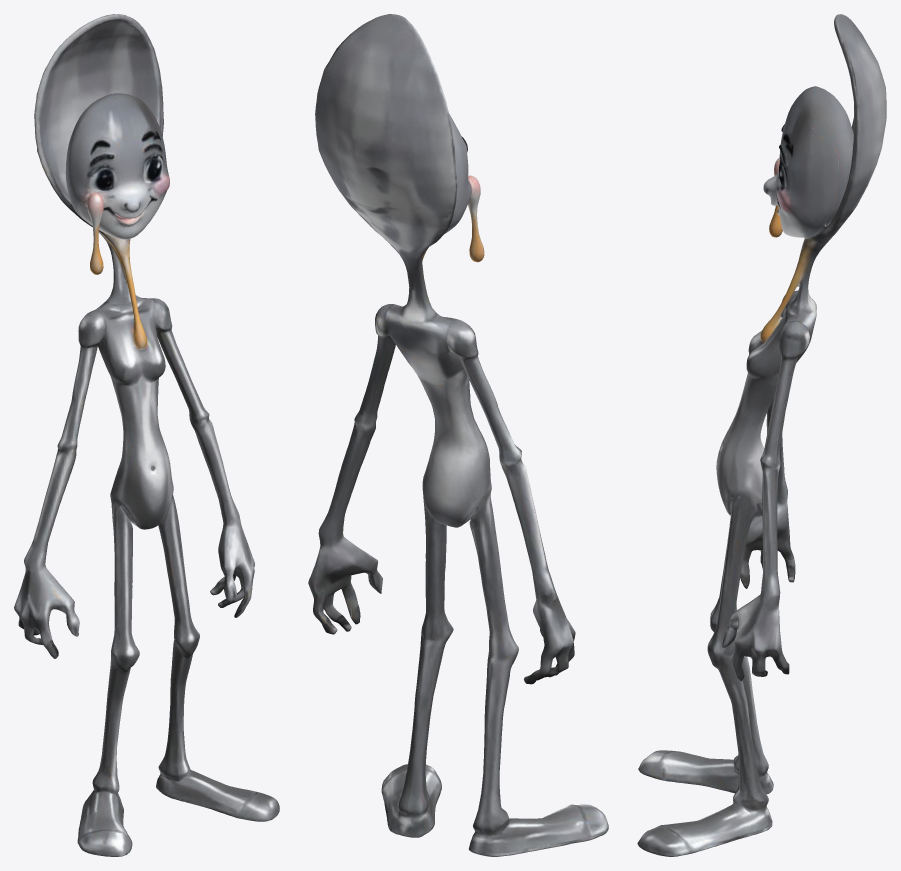
The model's file is token_soup_spoon.glb.
The picture shows the model from 3 angles, left to right: view 1: azimuth 30°, elevation 25°; view 2: azimuth 150°, elevation 25°; view 3: azimuth 270°, elevation 25°; orthographic projection. The views are drawn at different scales.
Bounding box in the file's own units: 0.2953 × 0.928 × 0.2642.
Materials: 1 (1 with a texture image).
